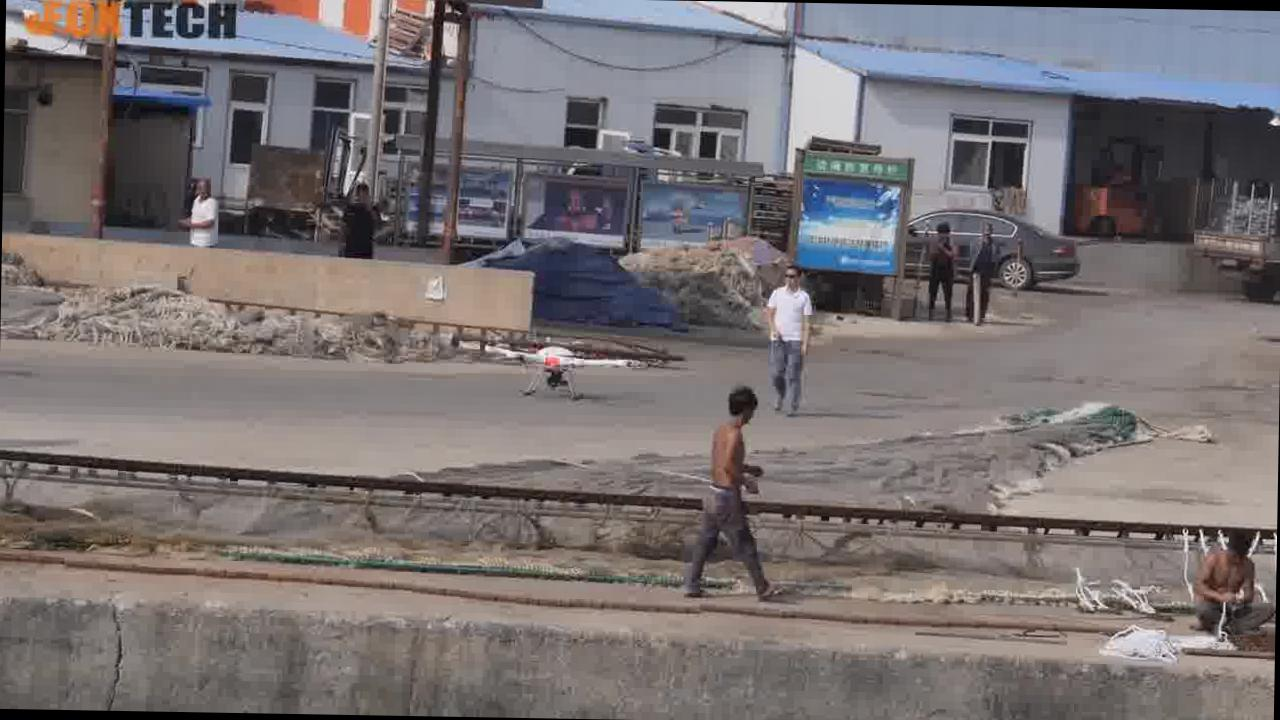drone: (476, 335, 646, 404)
